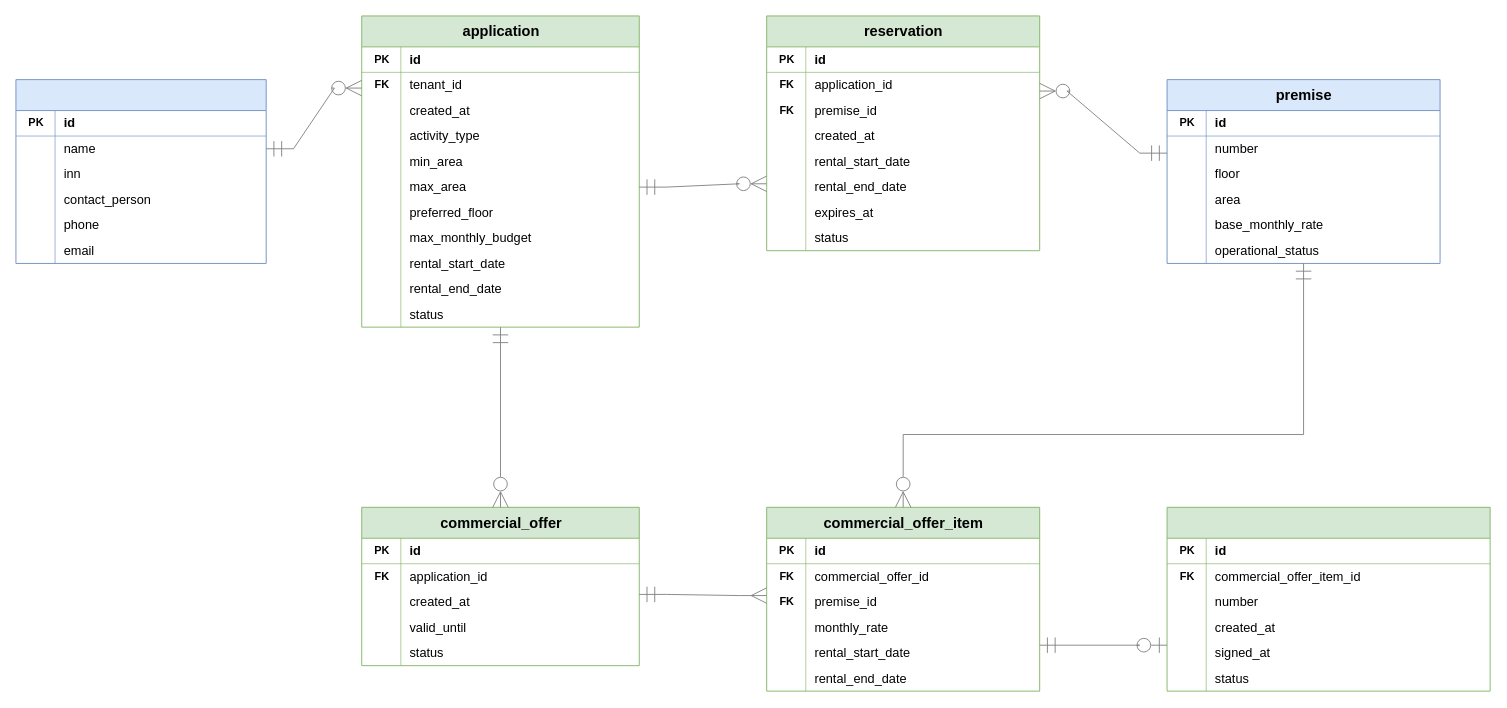
Some shapes in this 1507 by 708 pixel diagram are drawn without their labels. Here are the shapes that lost their labels. From the top down, the box of each, then its label:
(15, 79, 266, 263): tenant
(1166, 506, 1490, 691): lease_contract
